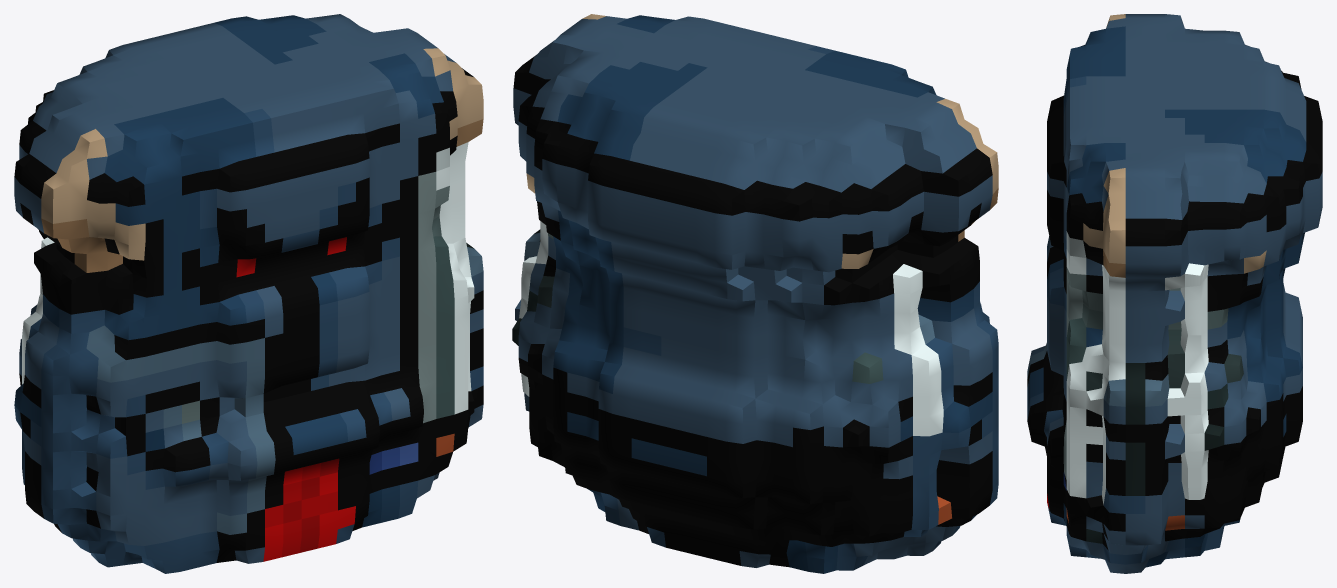
The model's file is Icon_742_02.obj.
The picture shows the model from 3 angles, left to right: view 1: azimuth 30°, elevation 25°; view 2: azimuth 150°, elevation 25°; view 3: azimuth 270°, elevation 25°; orthographic projection. The views are drawn at different scales.
Bounding box in the file's own units: 2.4 × 2.3 × 1.5.
Materials: 1 (1 with a texture image).
